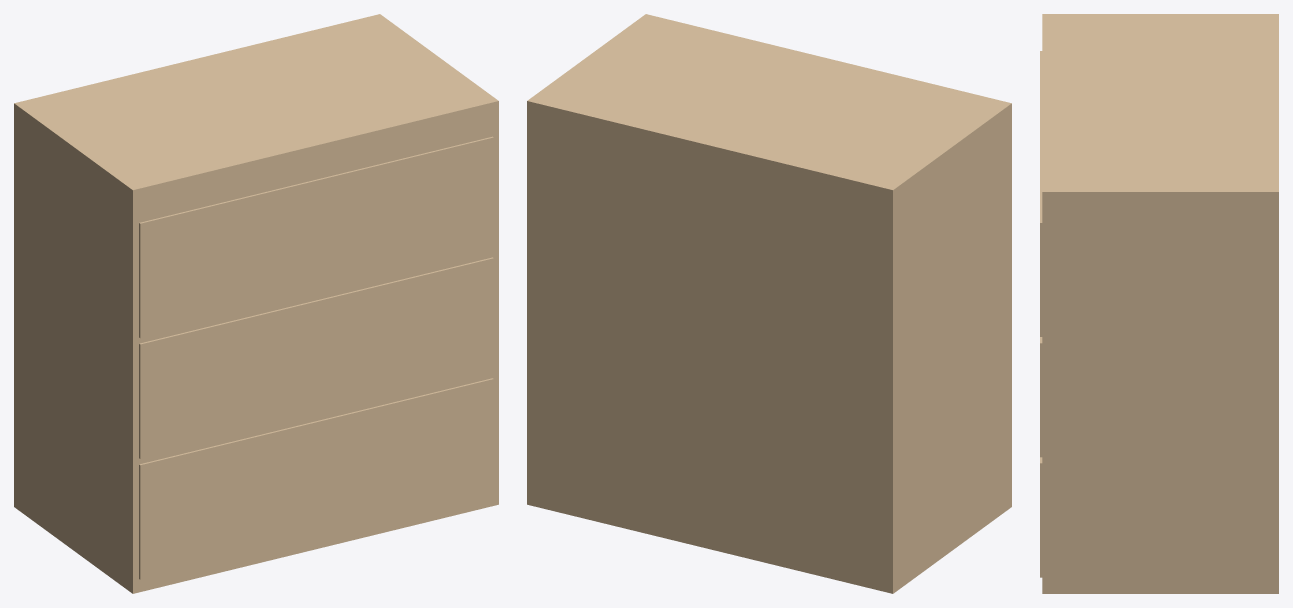
File: f-bed5-o04-fae6390278.glb
The picture shows the model from 3 angles, left to right: view 1: azimuth 30°, elevation 25°; view 2: azimuth 150°, elevation 25°; view 3: azimuth 270°, elevation 25°; orthographic projection.
Visible parts, largest first — view 1: part-00, drawer-1, drawer-3, drawer-2; view 2: part-00; view 3: part-00, drawer-3, drawer-1, drawer-2.
Part boxes in pixels (x1=…): part-00: x1=14, y1=14, x2=498, y2=593; drawer-1: x1=139, y1=378, x2=493, y2=579; drawer-3: x1=139, y1=136, x2=493, y2=338; drawer-2: x1=139, y1=257, x2=493, y2=458; part-00: x1=527, y1=14, x2=1011, y2=593; part-00: x1=1042, y1=14, x2=1278, y2=593; drawer-3: x1=1040, y1=51, x2=1042, y2=336; drawer-1: x1=1040, y1=457, x2=1042, y2=577; drawer-2: x1=1040, y1=337, x2=1042, y2=457.
Bounding box in the file's own units: 0.74 × 0.78 × 0.42.
